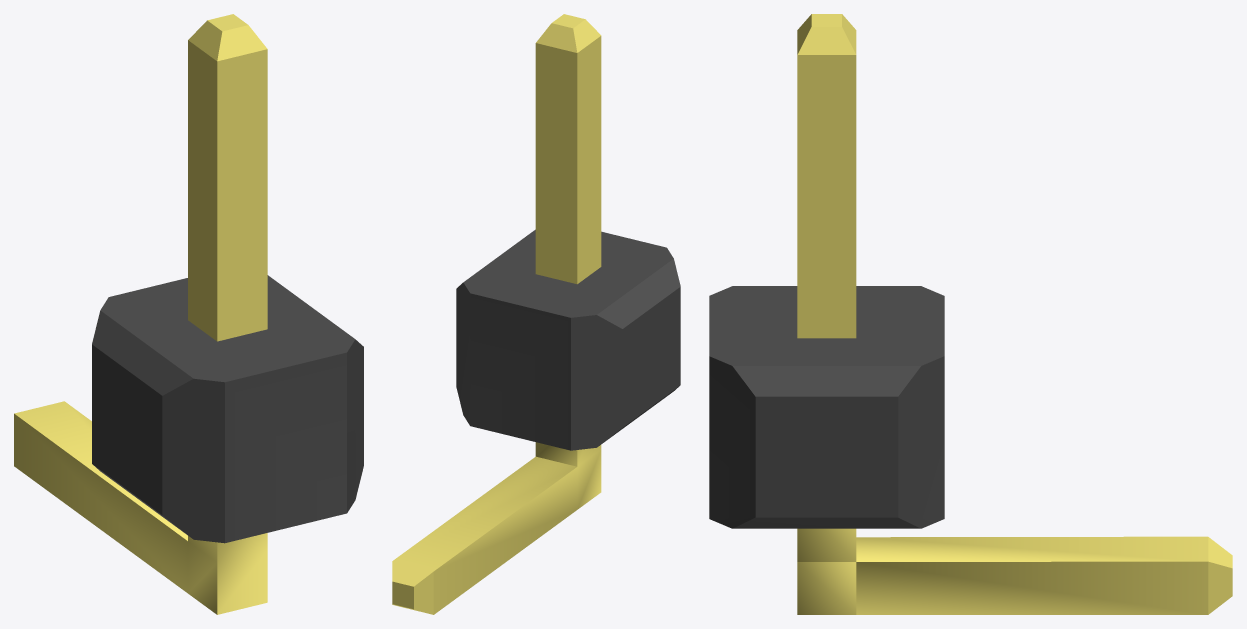
File: 1xPin-Header-Gebogen.obj
3 views of the same model, side by side, from view 1: azimuth 30°, elevation 25°; view 2: azimuth 150°, elevation 25°; view 3: azimuth 270°, elevation 25° (orthographic). The views are drawn at different scales.
Visible parts, largest first — view 1: 1xPin-Gebogen; view 2: 1xPin-Gebogen; view 3: 1xPin-Gebogen.
Boxes of the visible parts, x1,y1,x2,y2 form: 1xPin-Gebogen: (14, 14, 363, 614); 1xPin-Gebogen: (392, 14, 680, 614); 1xPin-Gebogen: (709, 14, 1232, 614).
Size of the model in its own units: 2.54 by 6.93 by 5.65.
